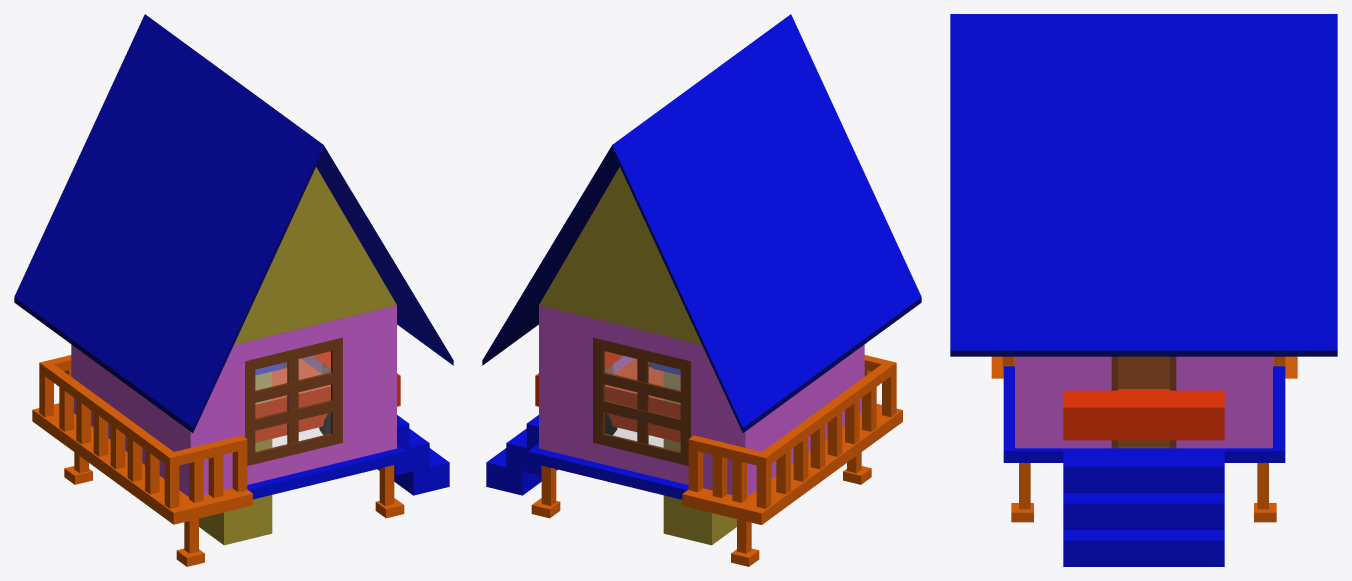
File: test_fix.gltf
The picture shows the model from 3 angles, left to right: view 1: azimuth 30°, elevation 25°; view 2: azimuth 150°, elevation 25°; view 3: azimuth 270°, elevation 25°; orthographic projection. The views are drawn at different scales.
Parts seen in each view (by area): view 1: building_003, car, Cube, food; view 2: building_003, car, Cube, food; view 3: building_003, car, food.
Boxes of the visible parts, x1,y1,x2,y2 form: building_003: [14, 14, 453, 524]; car: [255, 351, 400, 442]; Cube: [199, 363, 283, 545]; food: [64, 452, 404, 566]; building_003: [482, 14, 921, 524]; car: [535, 351, 680, 442]; Cube: [652, 363, 736, 545]; food: [531, 452, 871, 566]; building_003: [950, 14, 1337, 566]; car: [1063, 389, 1224, 440]; food: [1011, 463, 1276, 522].
Bounding box in the file's own units: 5.99 × 8.33 × 6.
